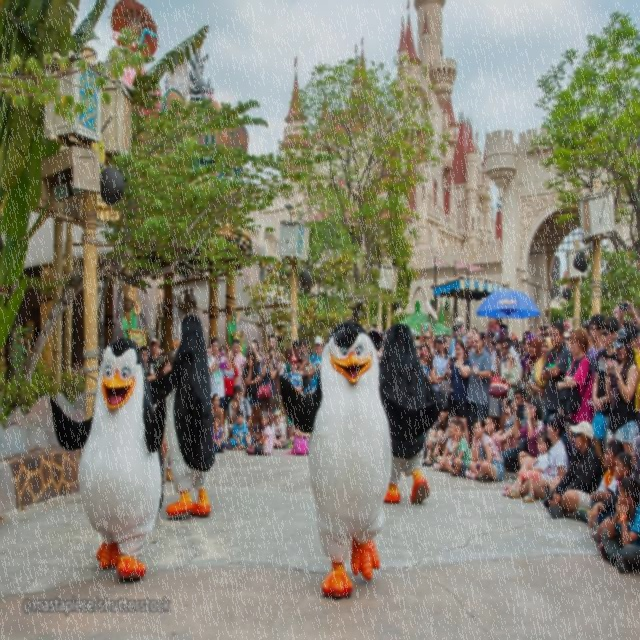pessoa: (47, 309, 219, 585), (280, 321, 440, 604), (542, 418, 607, 521), (514, 410, 570, 500), (556, 326, 595, 449), (588, 450, 634, 554), (594, 474, 640, 576), (590, 314, 622, 457), (604, 328, 640, 454), (437, 338, 472, 448), (540, 322, 571, 432), (467, 332, 492, 458), (507, 430, 550, 500), (464, 416, 505, 484), (589, 439, 625, 512), (512, 396, 548, 459), (421, 400, 454, 467), (528, 336, 552, 426), (206, 336, 232, 409), (284, 354, 304, 440), (261, 332, 283, 410), (445, 420, 472, 478), (242, 351, 262, 428), (259, 347, 279, 424), (495, 336, 513, 419), (221, 344, 239, 426), (586, 313, 607, 382), (244, 409, 274, 457), (490, 338, 506, 428), (522, 336, 544, 400), (432, 418, 458, 472), (500, 386, 530, 432), (228, 385, 253, 438), (223, 408, 252, 451), (430, 334, 450, 392), (291, 339, 311, 394), (519, 333, 537, 392), (494, 405, 516, 452), (231, 338, 248, 397), (445, 316, 467, 359), (308, 334, 324, 390), (268, 406, 288, 449), (483, 414, 503, 456), (618, 298, 640, 333), (210, 392, 226, 434), (244, 336, 263, 369), (482, 316, 500, 349), (510, 328, 529, 359), (418, 342, 434, 378), (212, 412, 226, 453), (630, 433, 640, 481), (296, 340, 310, 374), (420, 322, 438, 348), (528, 322, 554, 338), (584, 322, 596, 350), (563, 320, 572, 350), (465, 323, 473, 355), (622, 314, 636, 330), (502, 337, 512, 356), (486, 330, 494, 353), (498, 323, 508, 341), (632, 329, 638, 349), (611, 304, 618, 318), (258, 353, 263, 372), (570, 350, 576, 360), (258, 341, 262, 354), (444, 332, 449, 342), (472, 326, 478, 334), (450, 324, 452, 334)
